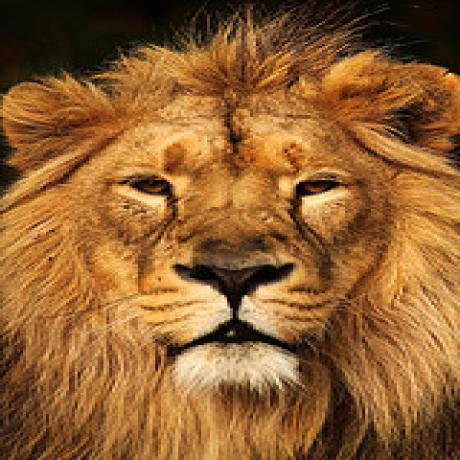Lion: (0, 14, 460, 460)
